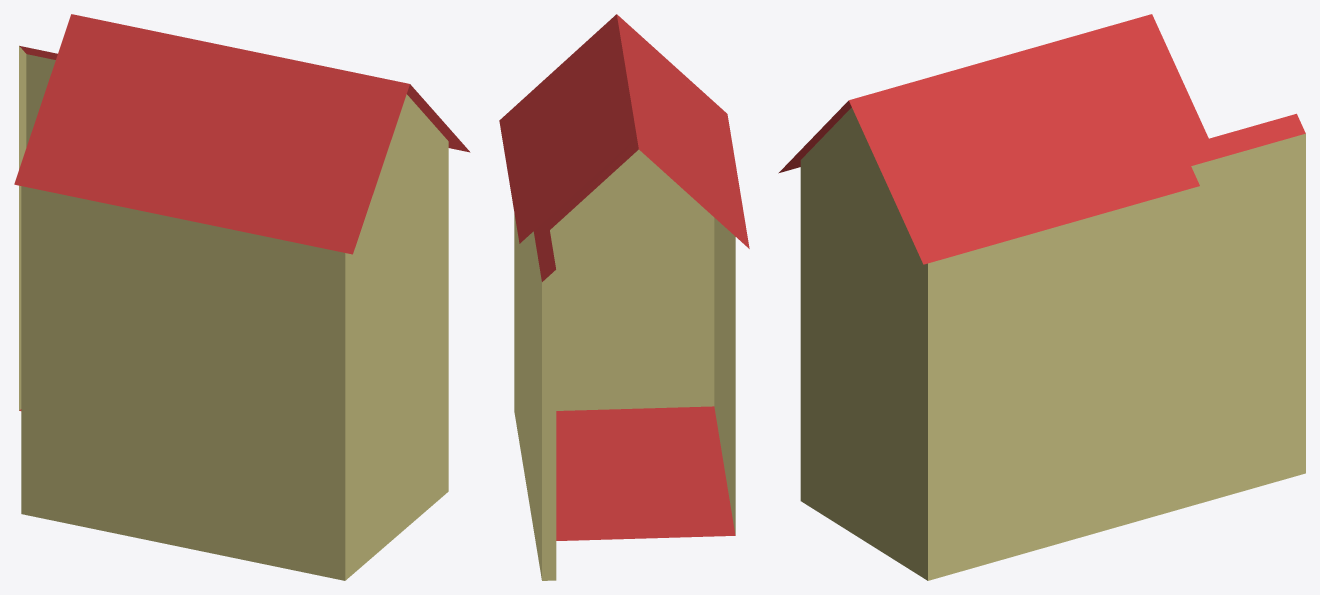
3 renders of one model, left to right at view 1: azimuth 30°, elevation 25°; view 2: azimuth 150°, elevation 25°; view 3: azimuth 270°, elevation 25°, orthographic. The views are drawn at different scales.
Size of the model in its own units: 6.5 by 8.16 by 7.56.
